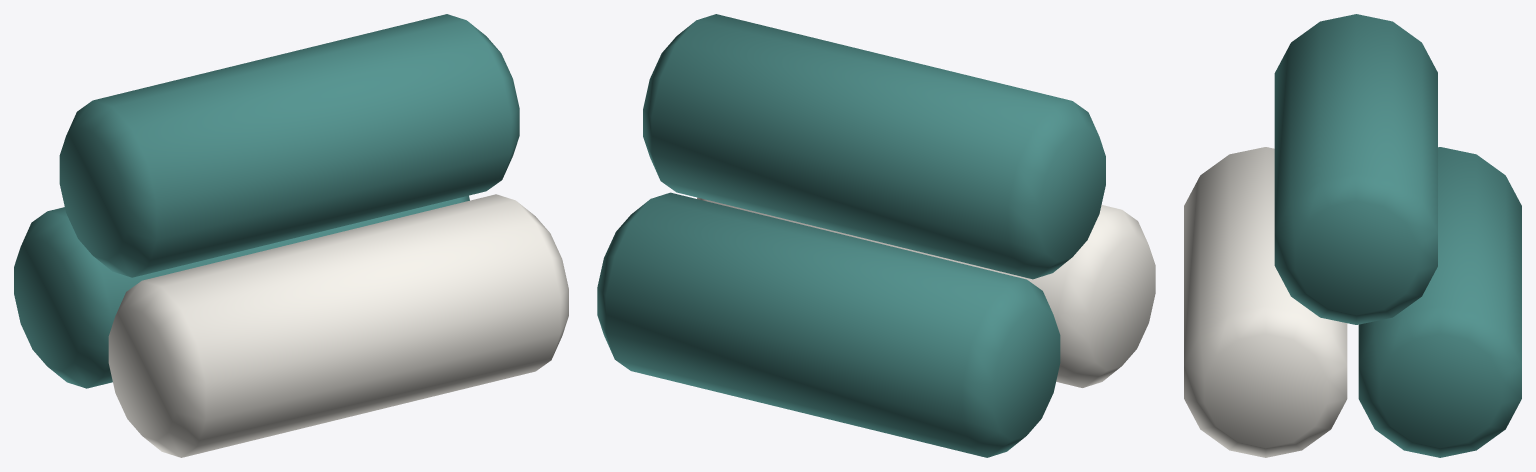
File: i_towels_2.glb
The picture shows the model from 3 angles, left to right: view 1: azimuth 30°, elevation 25°; view 2: azimuth 150°, elevation 25°; view 3: azimuth 270°, elevation 25°; orthographic projection. The views are drawn at different scales.
Visible parts, largest first — view 1: o.002, o, o.001; view 2: o.001, o.002, o; view 3: o.002, o, o.001.
Boxes of the visible parts, x1,y1,x2,y2 form: o.002: (59, 14, 519, 277); o: (108, 194, 568, 457); o.001: (14, 195, 469, 388); o.001: (597, 192, 1060, 457); o.002: (643, 14, 1105, 279); o: (697, 197, 1155, 387); o.002: (1274, 14, 1437, 324); o: (1184, 147, 1347, 457); o.001: (1358, 147, 1521, 457).
Size of the model in its own units: 0.3 by 0.225 by 0.242.
